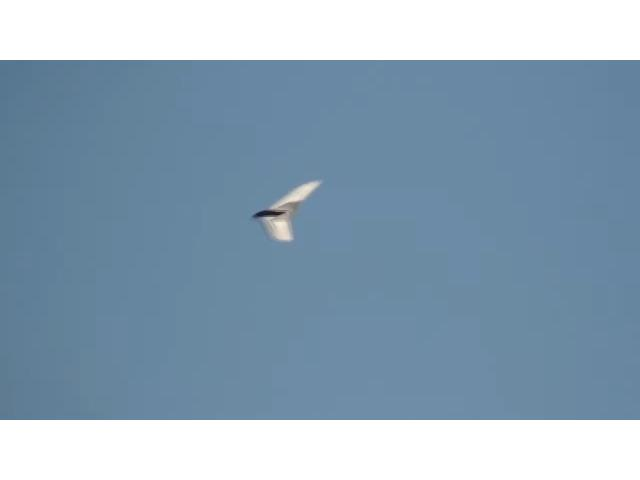Anti-Drone: (254, 181, 322, 243)
